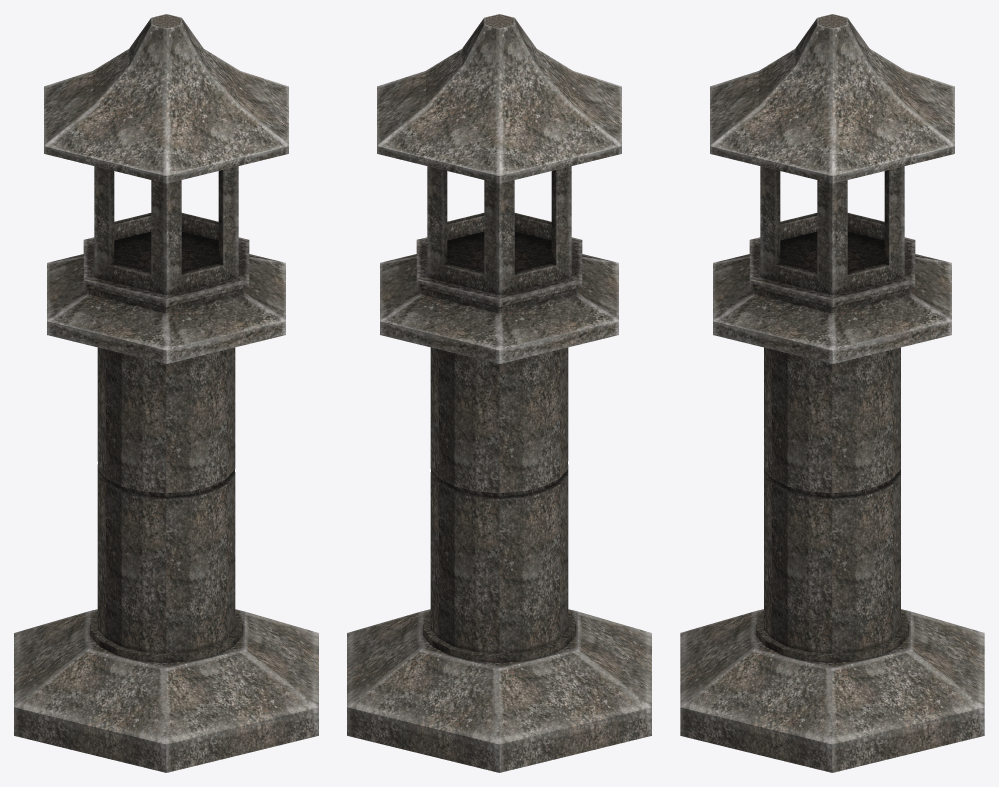
File: sweethome3d-blendswap-cc-0-stone-lantern.glb
The picture shows the model from 3 angles, left to right: view 1: azimuth 30°, elevation 25°; view 2: azimuth 150°, elevation 25°; view 3: azimuth 270°, elevation 25°; orthographic projection.
Visible parts, largest first — view 1: Circle.001; view 2: Circle.001; view 3: Circle.001.
Boxes of the visible parts, x1=… form: Circle.001: x1=14, y1=14, x2=318, y2=772; Circle.001: x1=347, y1=14, x2=651, y2=772; Circle.001: x1=680, y1=14, x2=984, y2=772.
Size of the model in its own units: 37.68 by 80 by 32.62.
Materials: 1 (1 with a texture image).
